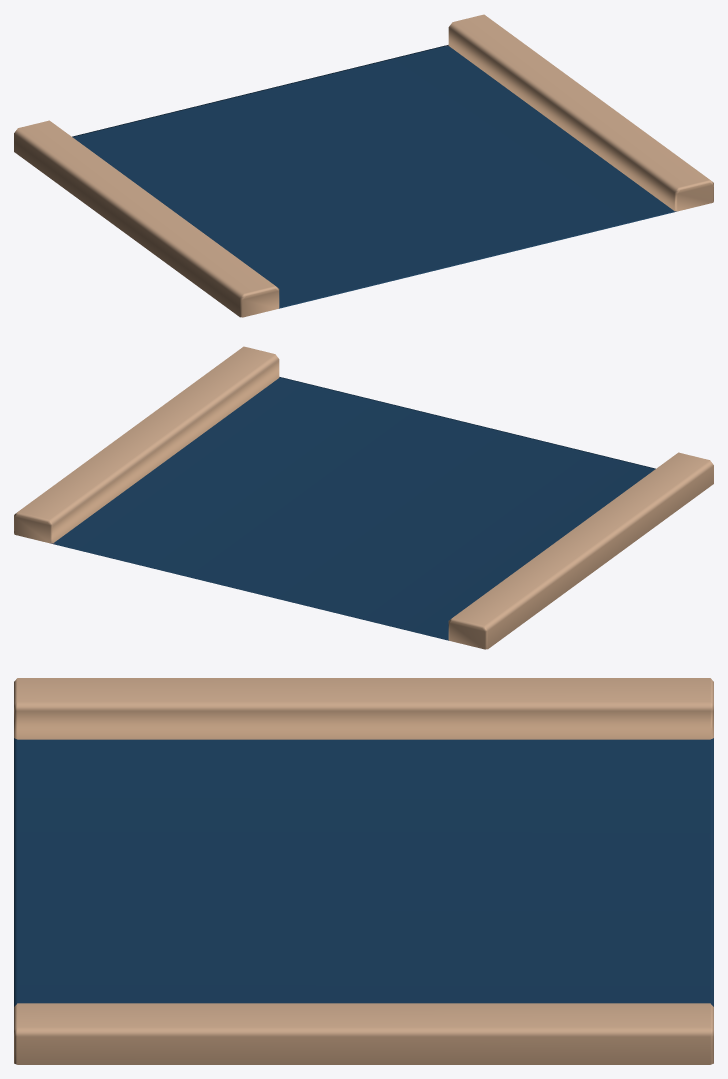
File: PokemonMonster_Landing_RoadStraight.fbx
The picture shows the model from 3 angles, top to bottom: view 1: azimuth 30°, elevation 25°; view 2: azimuth 150°, elevation 25°; view 3: azimuth 270°, elevation 25°; orthographic projection. The views are drawn at different scales.
Visible parts, largest first — view 1: Road_straight; view 2: Road_straight; view 3: Road_straight.
Boxes of the visible parts, x1,y1,x2,y2 form: Road_straight: (14, 14, 713, 317); Road_straight: (14, 346, 713, 649); Road_straight: (14, 678, 713, 1064).
Bounding box in the file's own units: 600 × 27.5 × 500.
